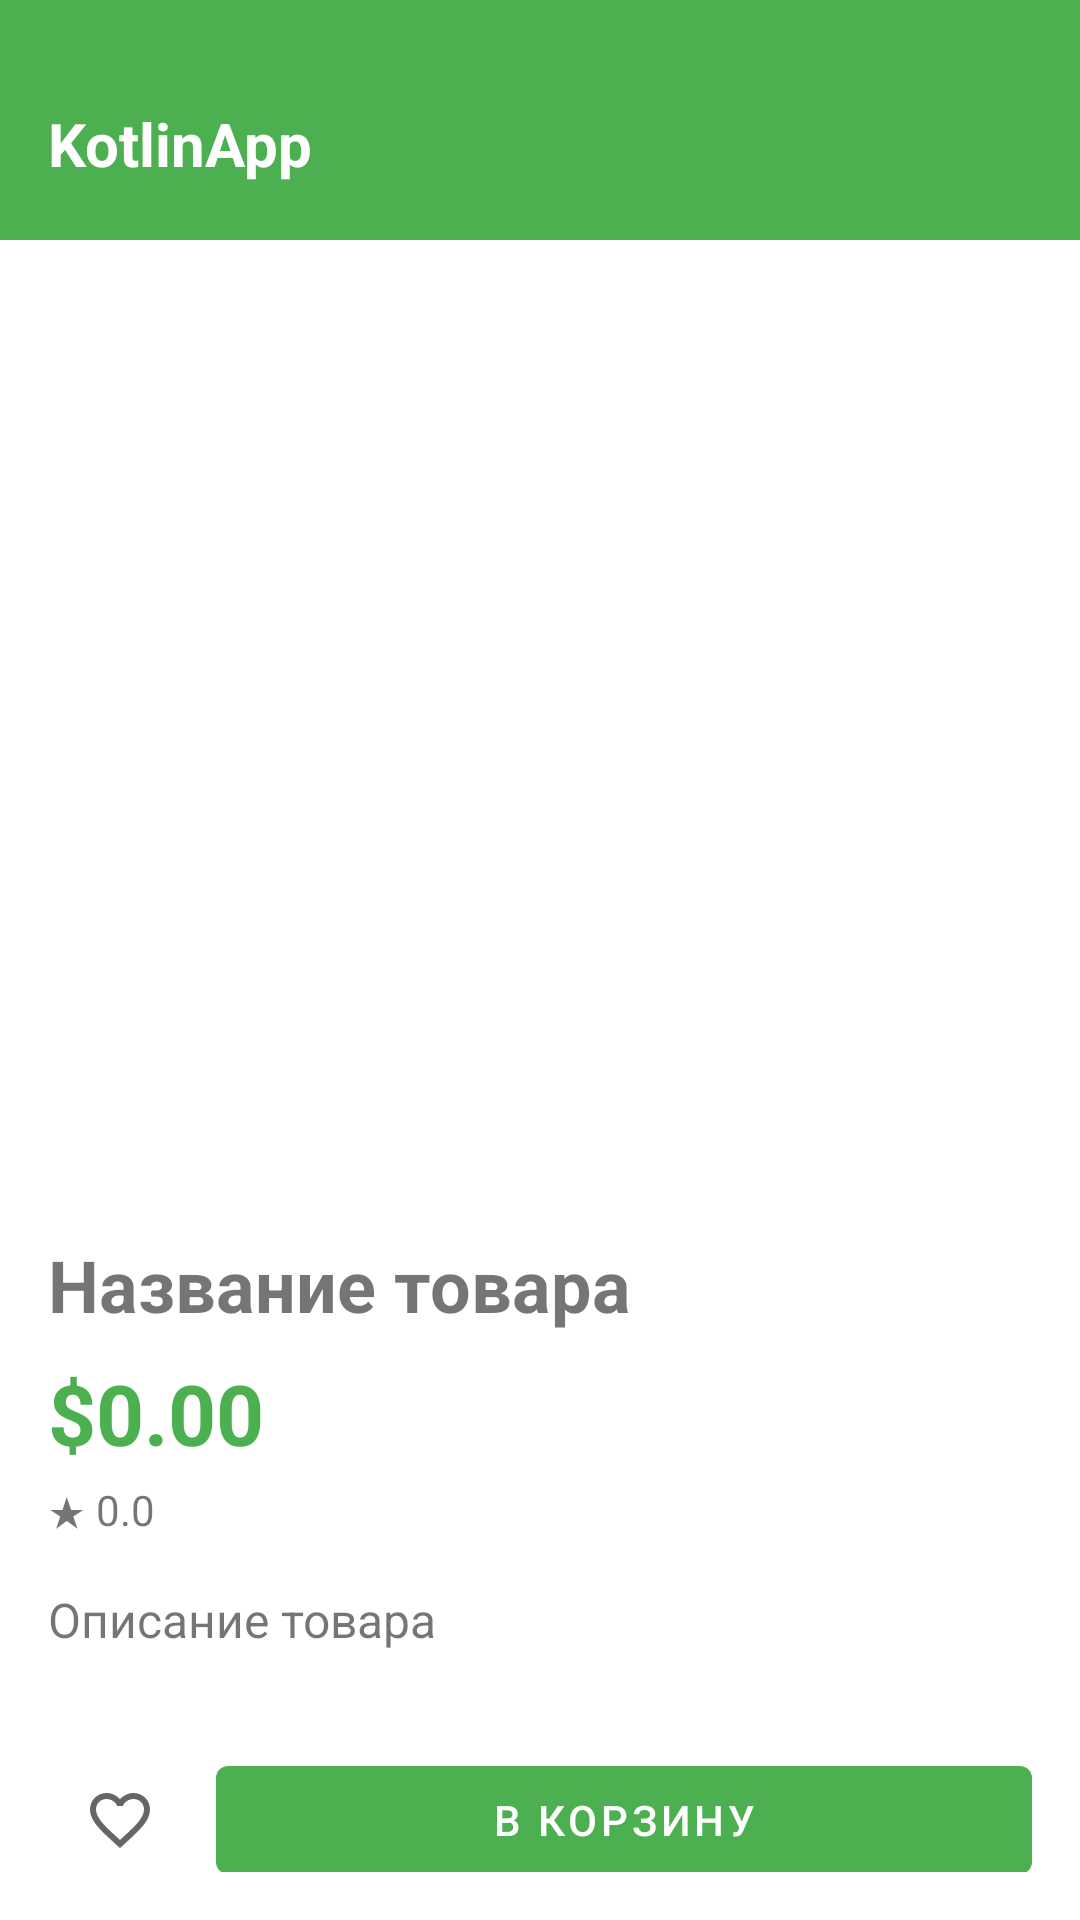

Screen size 1080w x 1920h. Icon name, then its center in pixels as point (x, y):
Добавить в избранное: point (120, 1820)
